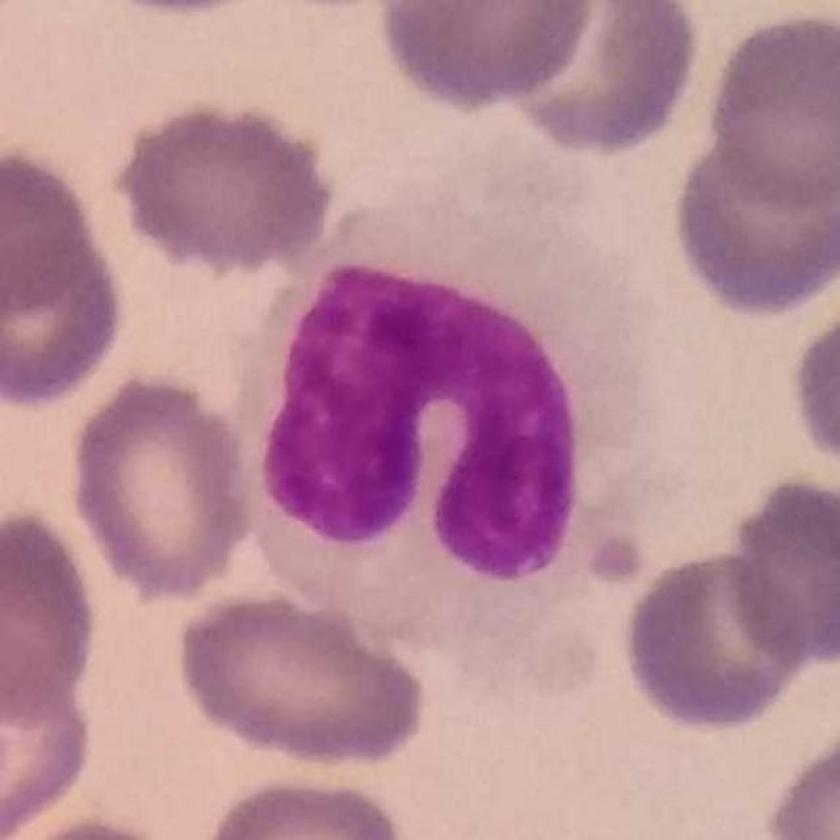monocyte: (238, 190, 660, 704)
